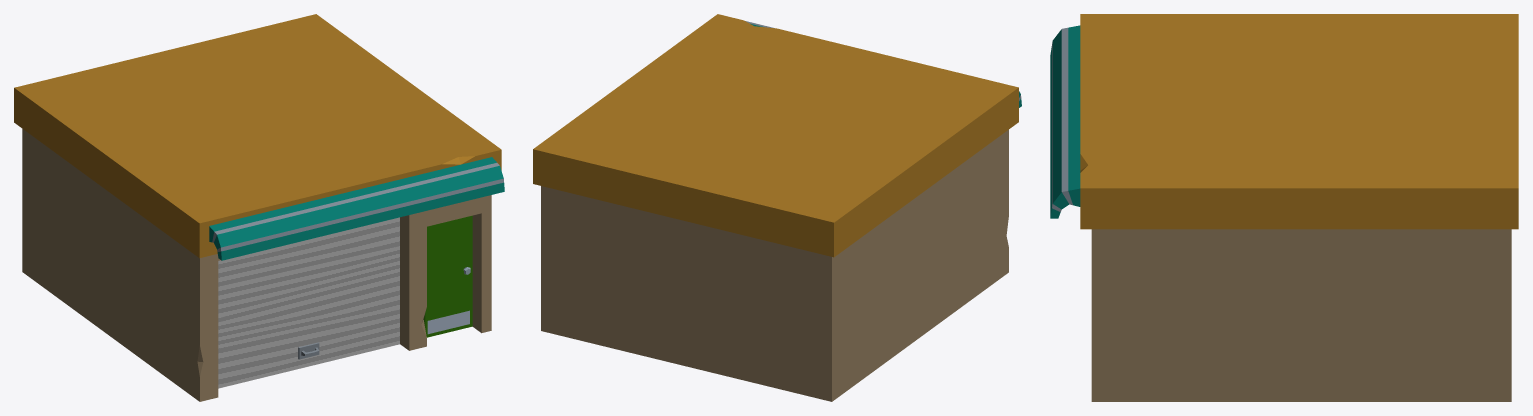
Rendered from SM_Bld_Shop_06_edit.fbx.
3 views of the same model, side by side, from view 1: azimuth 30°, elevation 25°; view 2: azimuth 150°, elevation 25°; view 3: azimuth 270°, elevation 25° (orthographic). The views are drawn at different scales.
Visible parts, largest first — view 1: SM_Bld_Shop_06; view 2: SM_Bld_Shop_06; view 3: SM_Bld_Shop_06.
Part boxes in pixels (x1=…): SM_Bld_Shop_06: x1=14, y1=14, x2=504, y2=401; SM_Bld_Shop_06: x1=533, y1=14, x2=1021, y2=401; SM_Bld_Shop_06: x1=1050, y1=14, x2=1518, y2=401.
Bounding box in the file's own units: 51753 × 30000 × 58767.
